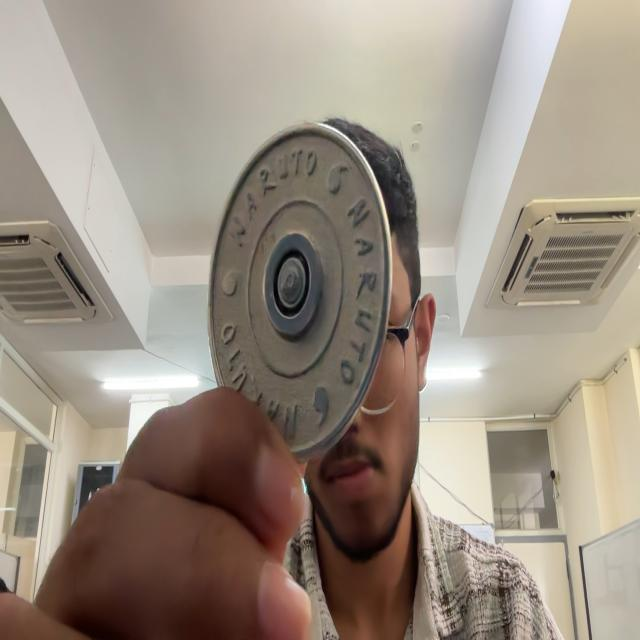dangerous: (208, 124, 393, 461)
